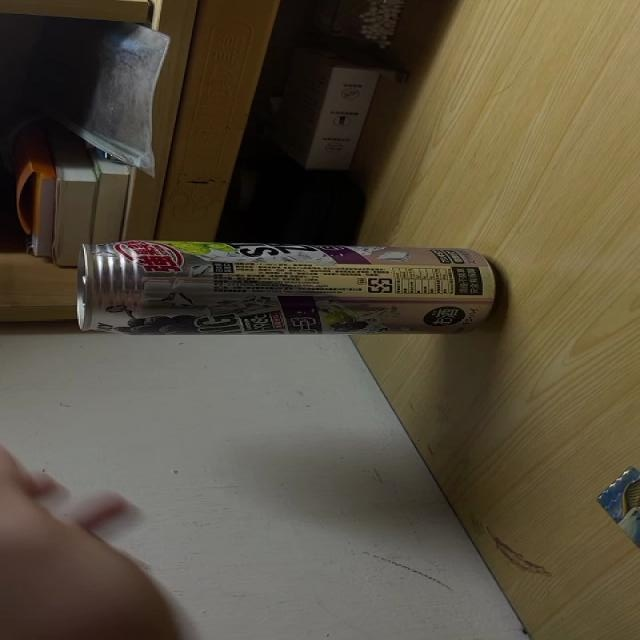Liquor: (69, 240, 501, 336)
